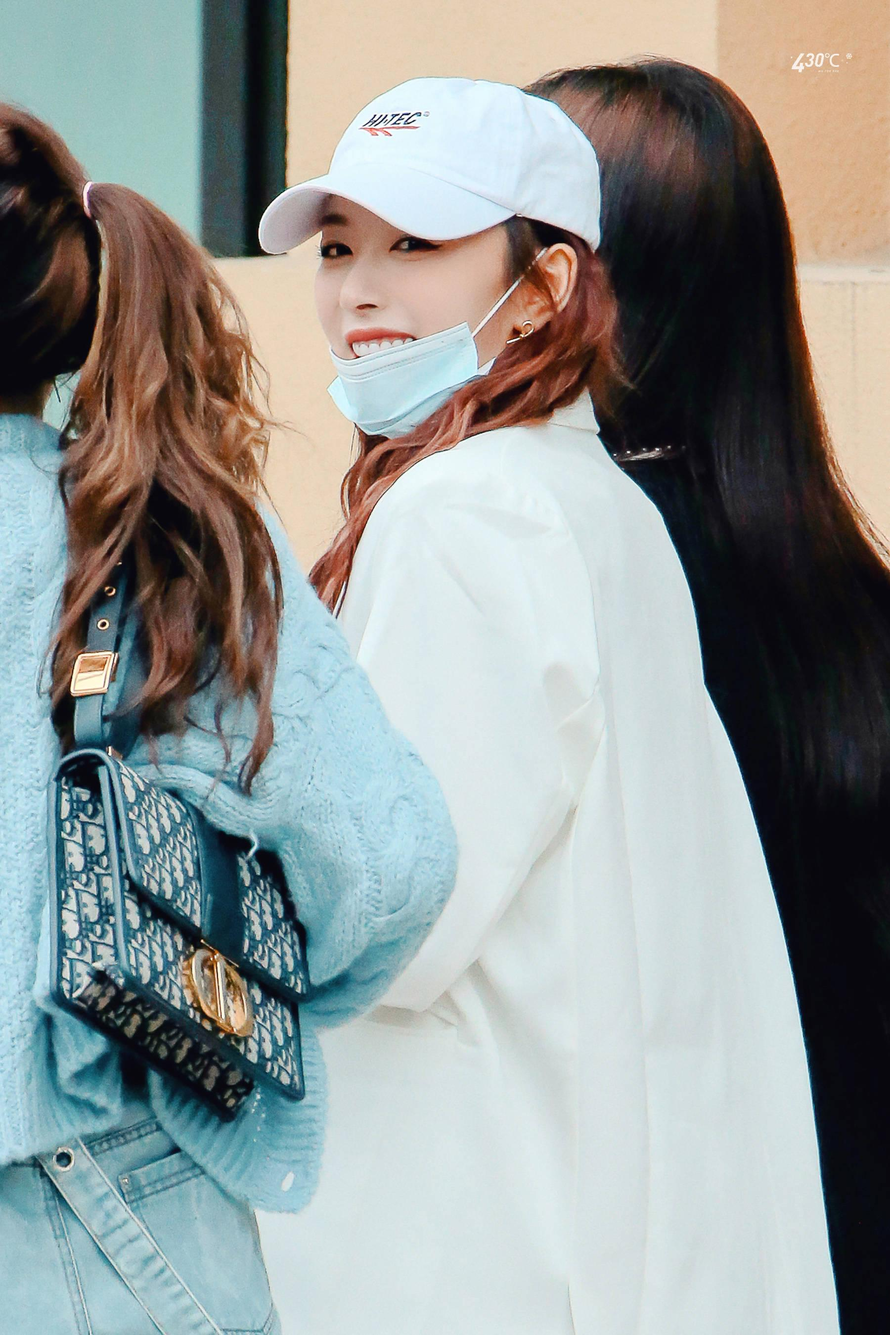WRONG: (316, 183, 496, 437)
